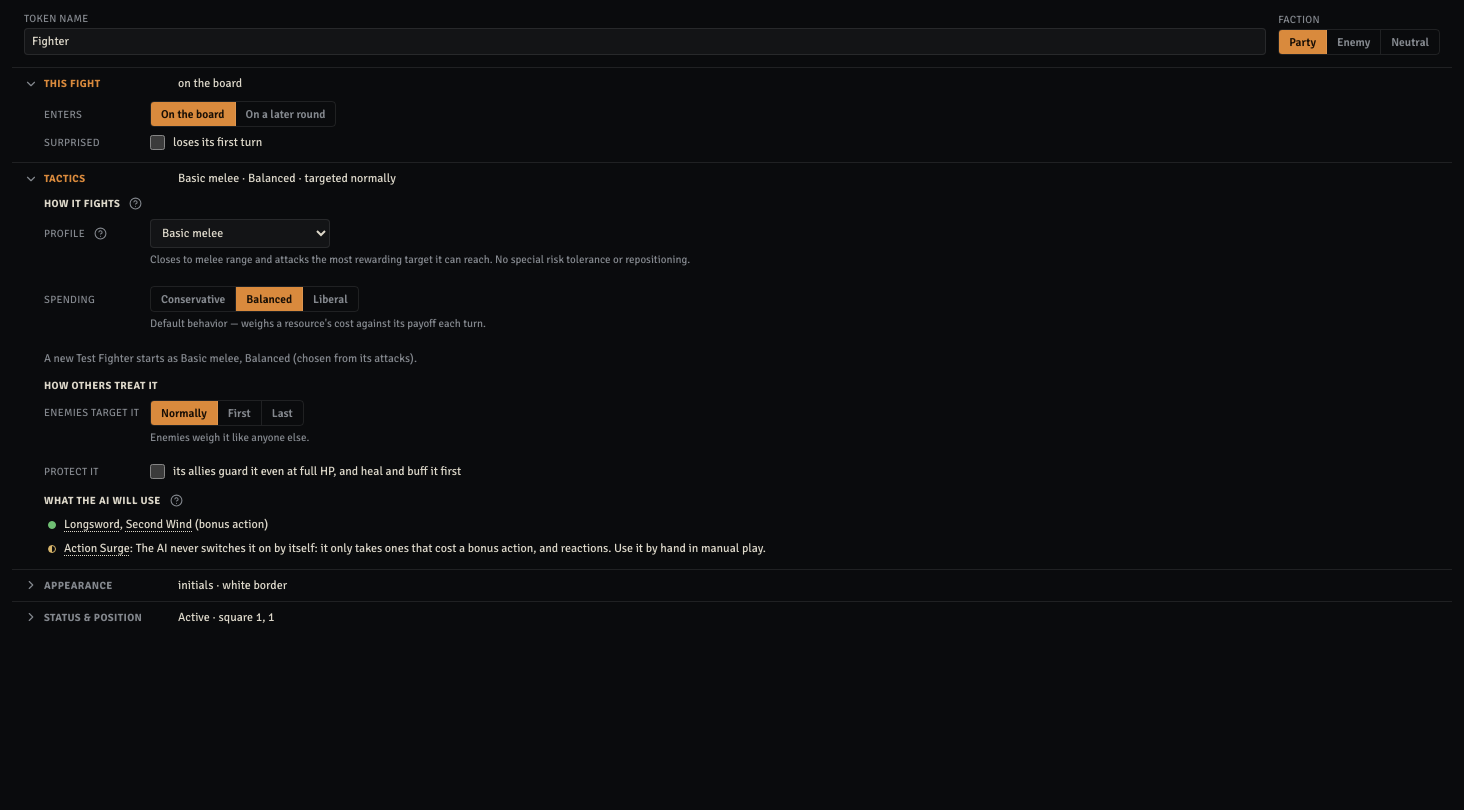
Test: Token › Tactics › shows what the profile and the spending do, and changes them for this token
The image size is (1464, 810).
Expected: the text "Closes to melee range and attacks the most rewarding target it can reach. No special risk tolerance or repositioning." is shown, [150,253,690,266]
Select "Brute" in the dropdown named "Tactics profile": (240, 234) [150,219,330,248]
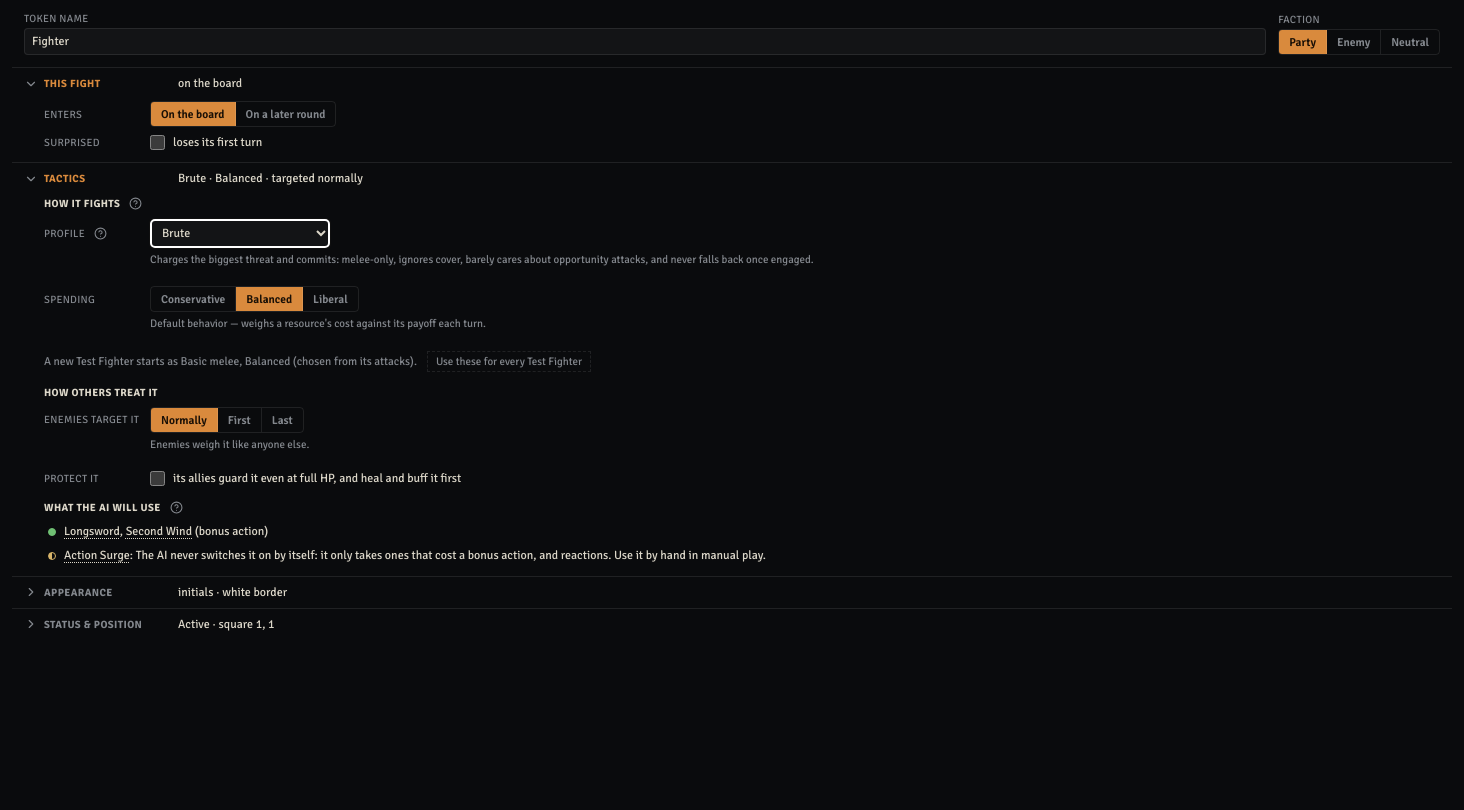
Now the text "Charges the biggest threat and commits: melee-only, ignores cover, barely cares about opportunity attacks, and never fal" is shown, box [150,253,814,266]
Click the radio button labelled "Liberal": (330, 299) [303,287,358,311]
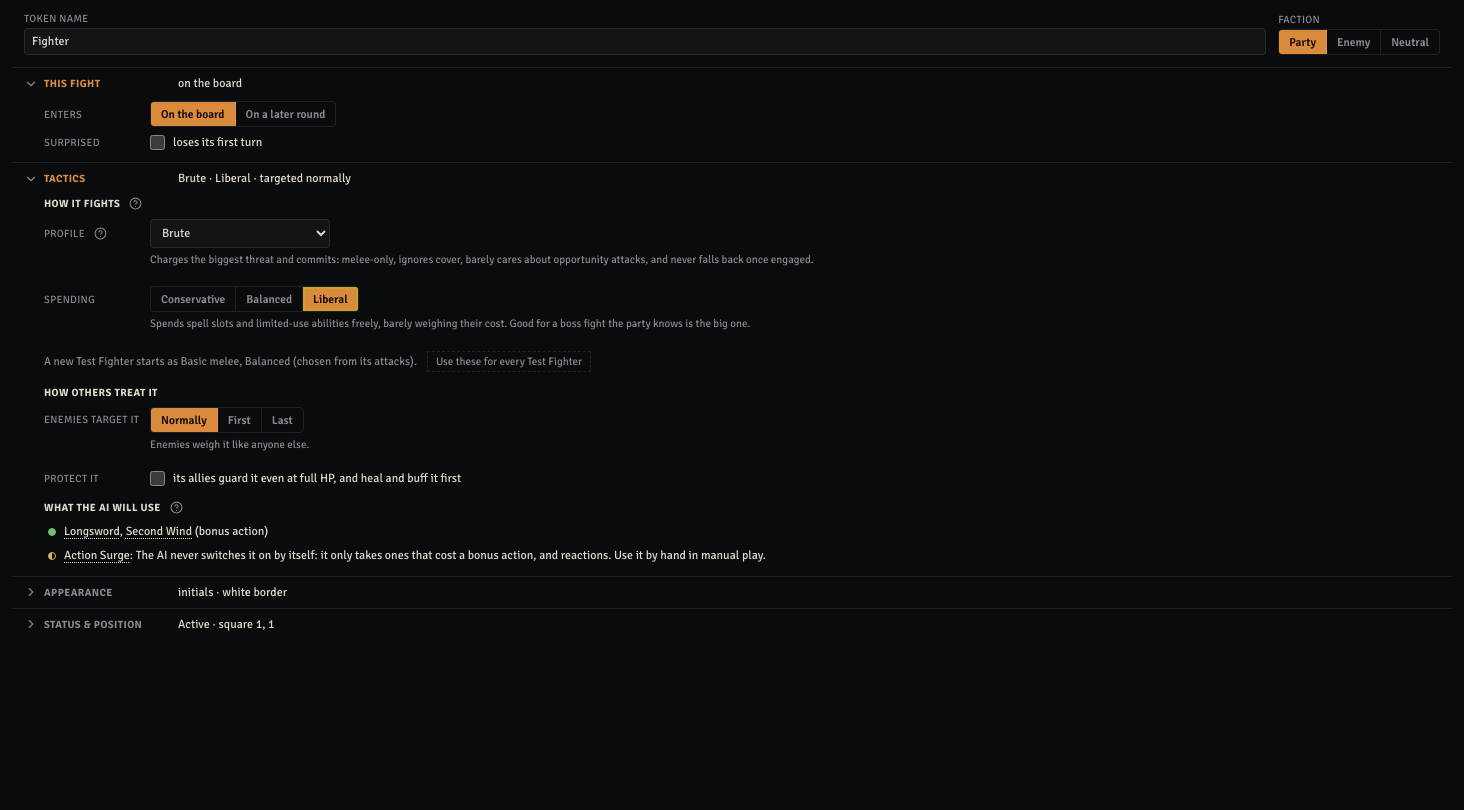
Now the text "Spends spell slots and limited-use abilities freely, barely weighing their cost. Good for a boss fight the party knows i" is shown, box [150,317,750,330]
